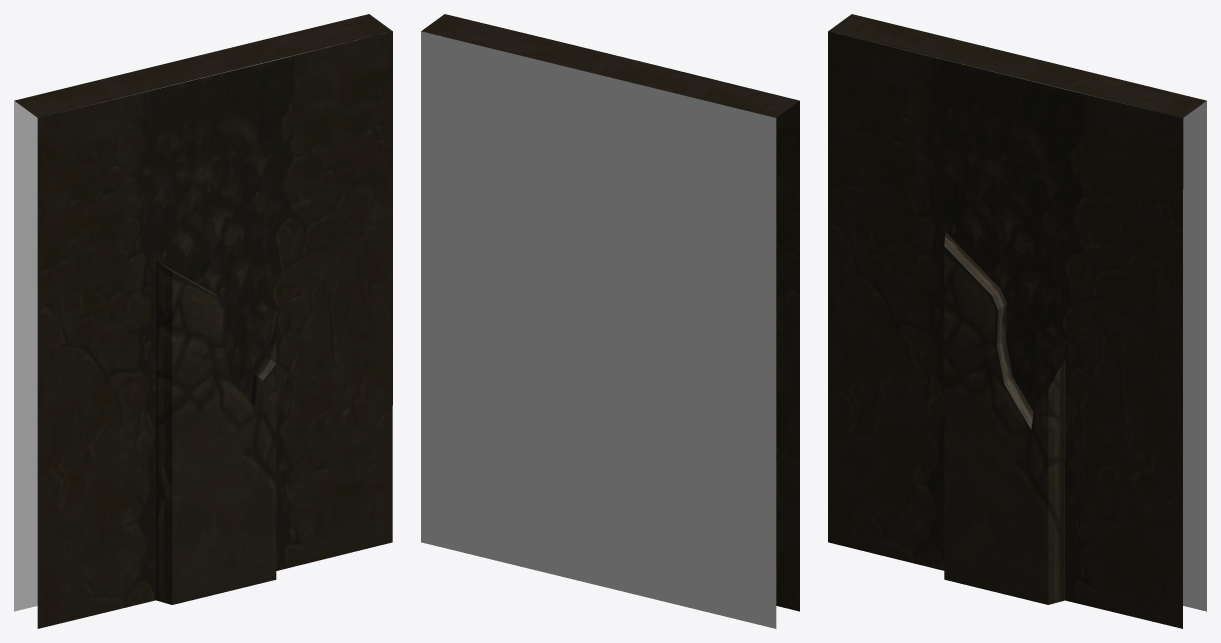
Rendered from fortress_wall_straight_02_c.fbx.
3 views of the same model, side by side, from view 1: azimuth 30°, elevation 25°; view 2: azimuth 150°, elevation 25°; view 3: azimuth 330°, elevation 25° (orthographic).
Visible parts, largest first — view 1: fortress_wall_straight_02_c-0; view 2: fortress_wall_straight_02_c-0; view 3: fortress_wall_straight_02_c-0.
Boxes of the visible parts, x1,y1,x2,y2 form: fortress_wall_straight_02_c-0: [14, 14, 392, 628]; fortress_wall_straight_02_c-0: [421, 14, 799, 628]; fortress_wall_straight_02_c-0: [828, 14, 1206, 628].
Size of the model in its own units: 4 by 5.5 by 0.6409.
